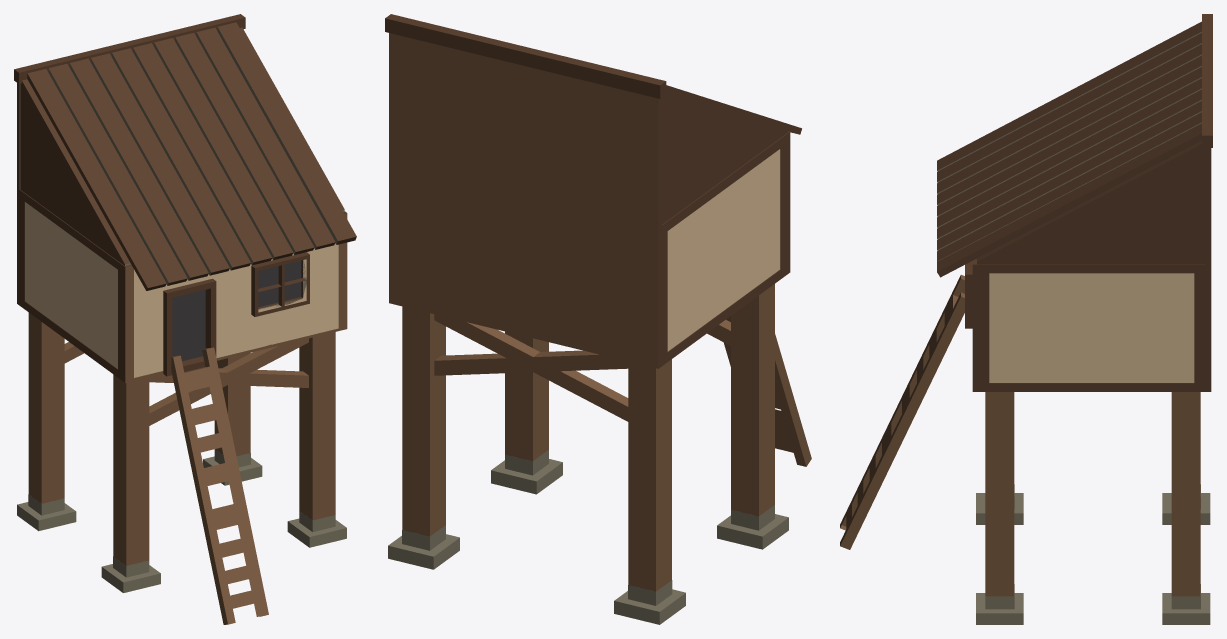
Rendered from medieval4.fbx.
3 renders of one model, left to right at view 1: azimuth 30°, elevation 25°; view 2: azimuth 150°, elevation 25°; view 3: azimuth 270°, elevation 25°, orthographic. The views are drawn at different scales.
Visible parts, largest first — view 1: Cube.018; view 2: Cube.018; view 3: Cube.018.
Boxes of the visible parts, left/top/right/bottom form: Cube.018: left=14, top=14, right=356, bottom=624; Cube.018: left=385, top=14, right=811, bottom=624; Cube.018: left=840, top=14, right=1212, bottom=624.
Bounding box in the file's own units: 1228 × 2308 × 1590.
